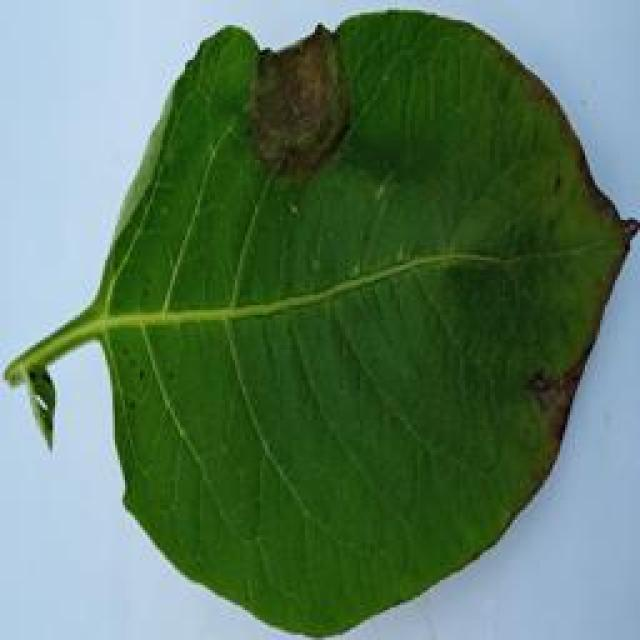Potato_Late_Blight: (8, 14, 627, 636)
